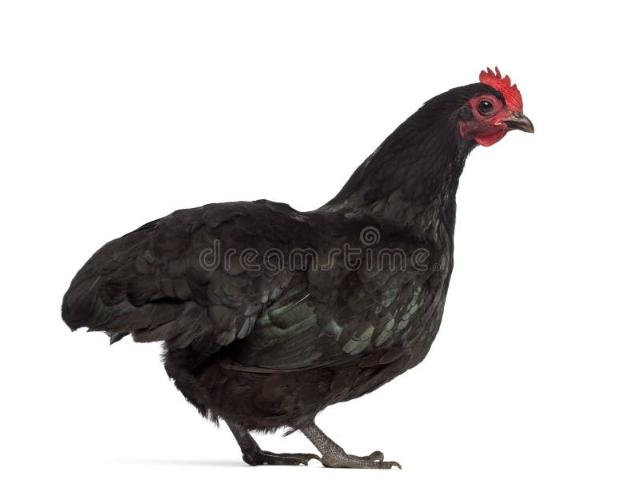Chicken: (59, 65, 535, 470)
